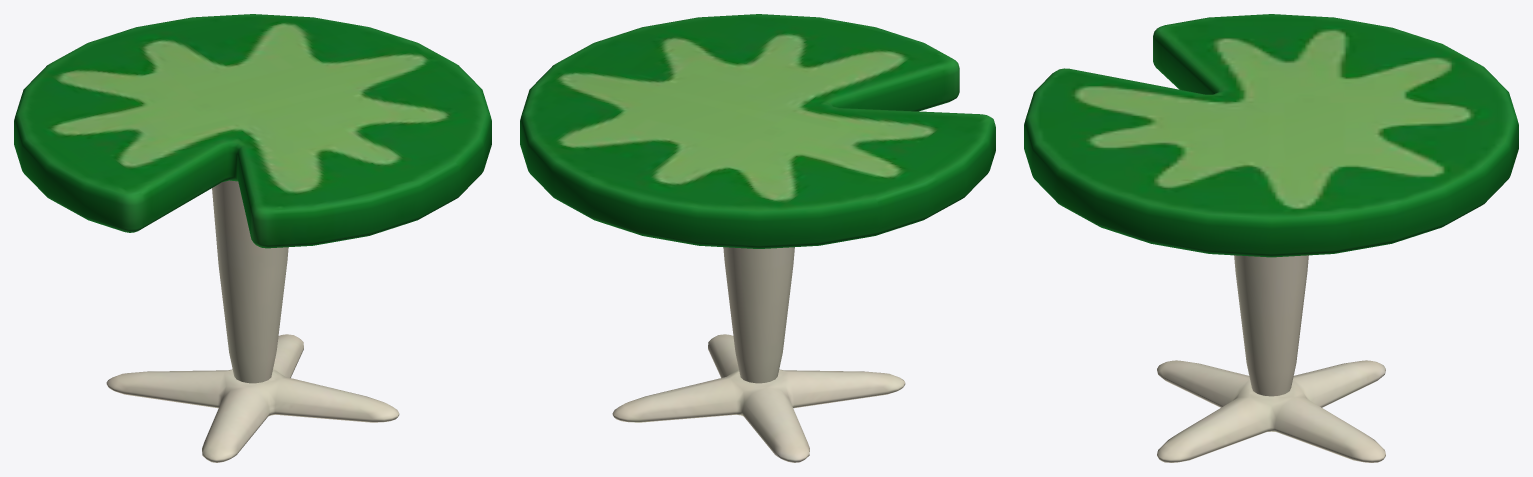
3 views of the same model, side by side, from view 1: azimuth 30°, elevation 25°; view 2: azimuth 150°, elevation 25°; view 3: azimuth 270°, elevation 25° (orthographic). The views are drawn at different scales.
Size of the model in its own units: 9.7 by 6.5 by 9.7.
Materials: 1 (1 with a texture image).
